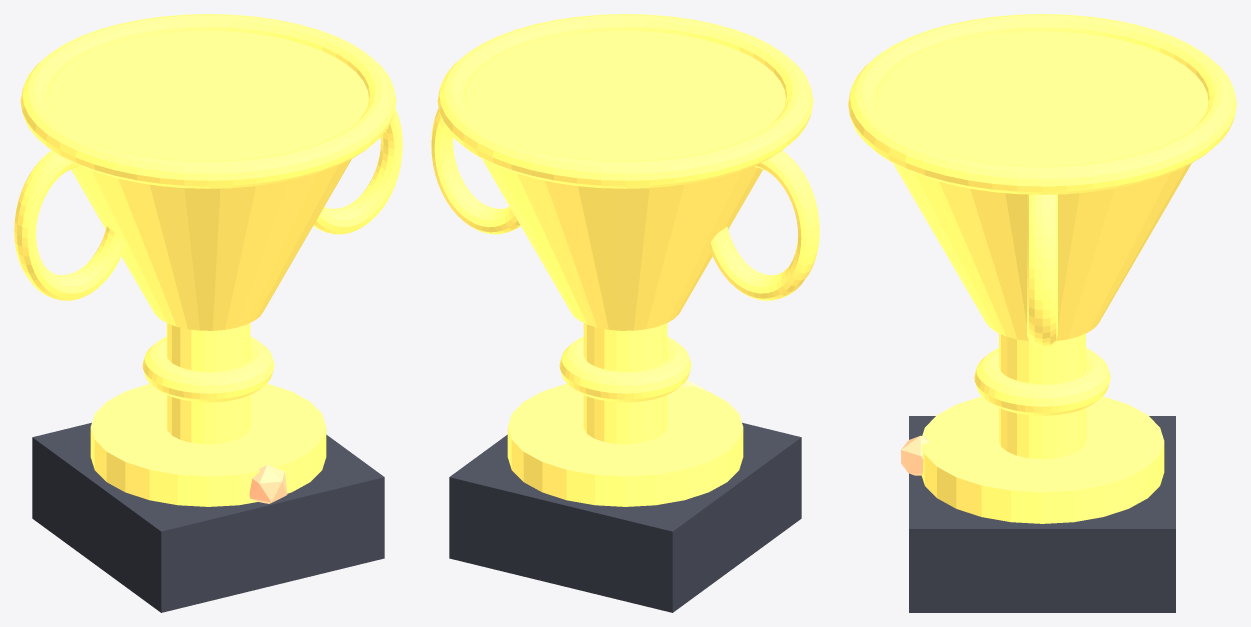
Rendered from custom_trophy.glb.
3 renders of one model, left to right at view 1: azimuth 30°, elevation 25°; view 2: azimuth 150°, elevation 25°; view 3: azimuth 270°, elevation 25°, orthographic. The views are drawn at different scales.
Parts seen in each view (by area): view 1: Cone, Cube, Torus.001, Cylinder, Cylinder.001, Torus.002, Torus, Torus.003, Icosphere; view 2: Cone, Cube, Cylinder, Torus.001, Cylinder.001, Torus.002, Torus, Torus.003; view 3: Cone, Cube, Cylinder, Torus.001, Cylinder.001, Torus, Torus.003, Icosphere.
Boxes of the visible parts, box(x1,y1,x2,y2) form: Cone: box(48, 31, 368, 330); Cube: box(32, 422, 384, 612); Torus.001: box(20, 14, 396, 188); Cylinder: box(90, 383, 326, 506); Cylinder.001: box(166, 323, 250, 444); Torus.002: box(14, 150, 124, 300); Torus: box(142, 336, 274, 402); Torus.003: box(313, 108, 402, 234); Icosphere: box(249, 465, 287, 503); Cone: box(465, 31, 785, 330); Cube: box(449, 422, 801, 612); Cylinder: box(507, 383, 743, 506); Torus.001: box(437, 14, 813, 188); Cylinder.001: box(583, 323, 667, 444); Torus.002: box(709, 150, 819, 300); Torus: box(559, 336, 691, 402); Torus.003: box(431, 108, 520, 234); Cone: box(876, 31, 1208, 340); Cube: box(909, 416, 1175, 612); Cylinder: box(921, 396, 1164, 523); Torus.001: box(848, 14, 1236, 194); Cylinder.001: box(999, 333, 1085, 459); Torus: box(974, 348, 1110, 415); Torus.003: box(1027, 194, 1057, 347); Icosphere: box(901, 435, 929, 475).
Size of the model in its own units: 1.58 by 1.77 by 1.34.
